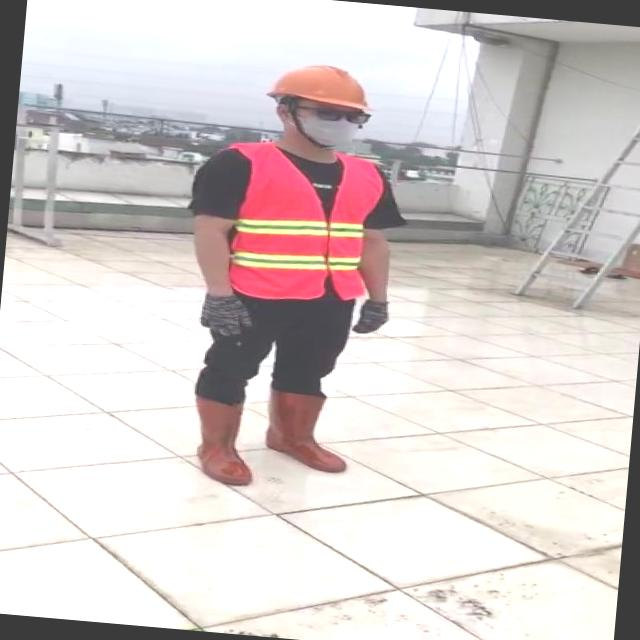boots: (261, 388, 351, 472), (183, 396, 261, 489)
helmet: (264, 58, 382, 112)
vest: (215, 148, 388, 304)
